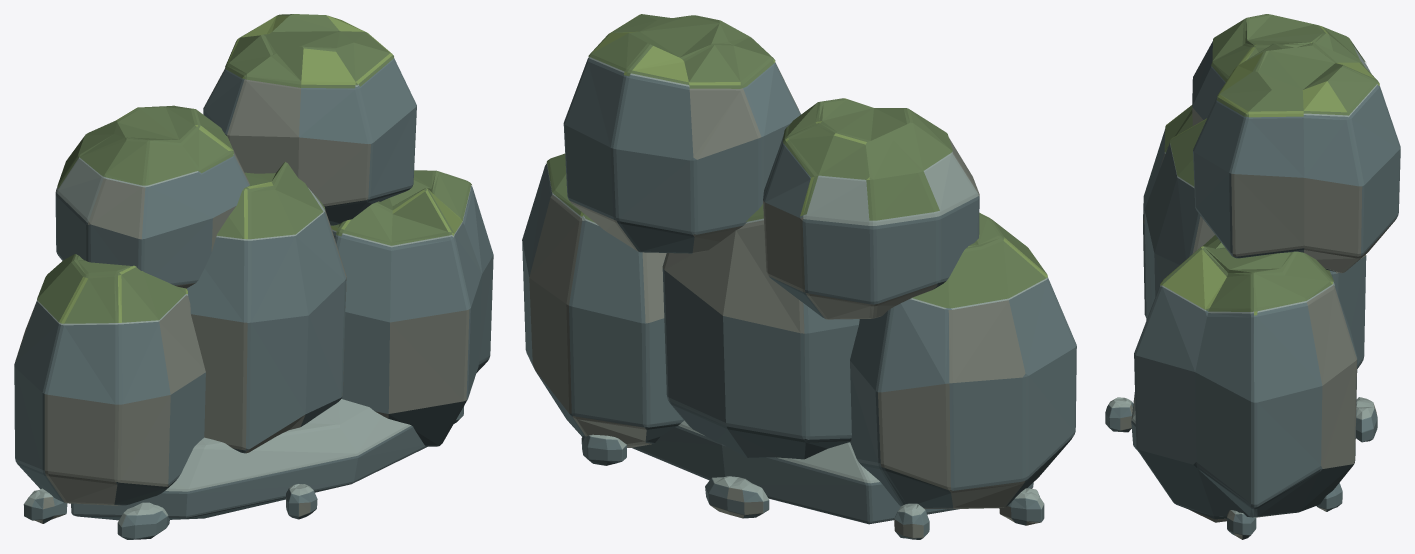
Rendered from cliff_segment.glb.
3 renders of one model, left to right at view 1: azimuth 30°, elevation 25°; view 2: azimuth 150°, elevation 25°; view 3: azimuth 270°, elevation 25°, orthographic. The views are drawn at different scales.
Visible parts, largest first — view 1: Occlude_UpperRock_Mesh, Keep_Mesh; view 2: Occlude_UpperRock_Mesh, Keep_Mesh; view 3: Occlude_UpperRock_Mesh, Keep_Mesh.
Boxes of the visible parts, left/top/right/bottom form: Occlude_UpperRock_Mesh: left=14, top=14, right=493, bottom=505; Keep_Mesh: left=23, top=399, right=463, bottom=539; Occlude_UpperRock_Mesh: left=522, top=14, right=1076, bottom=508; Keep_Mesh: left=581, top=420, right=1044, bottom=539; Occlude_UpperRock_Mesh: left=1134, top=14, right=1400, bottom=522; Keep_Mesh: left=1105, top=392, right=1377, bottom=539.
Bounding box in the file's own units: 4.02 × 3.29 × 2.07.
